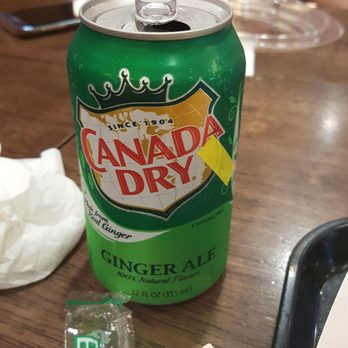Lata: (62, 1, 247, 307)
